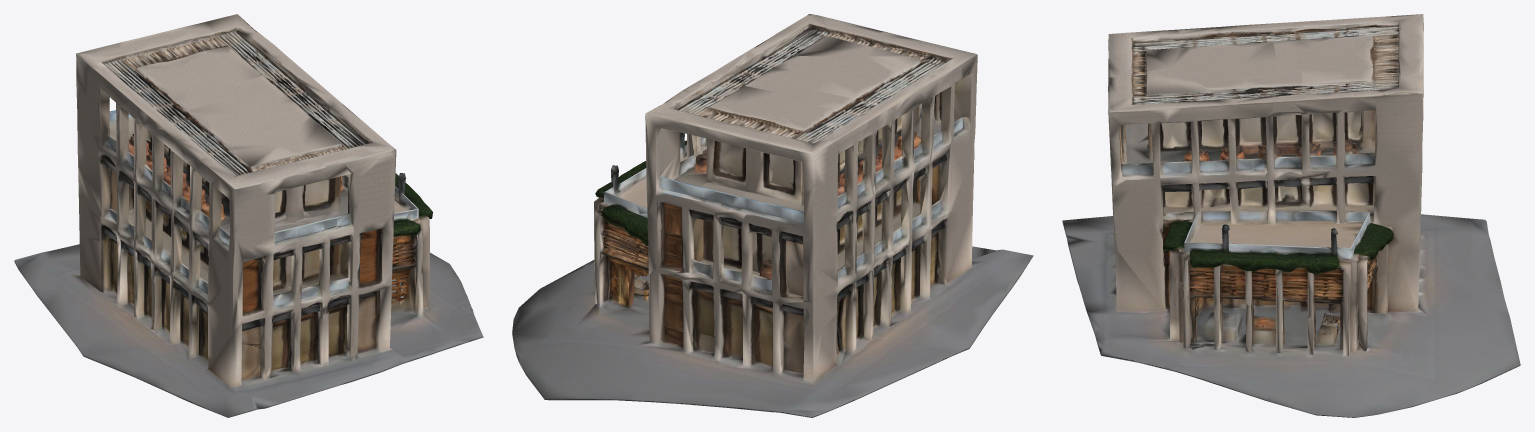
Rendered from shopblk3_lod1.glb.
The picture shows the model from 3 angles, left to right: view 1: azimuth 30°, elevation 25°; view 2: azimuth 150°, elevation 25°; view 3: azimuth 270°, elevation 25°; orthographic projection. The views are drawn at different scales.
Visible parts, largest first — view 1: tripo_node_a7c42c4e-fc94-45e2-8fab-97f05bae58b5; view 2: tripo_node_a7c42c4e-fc94-45e2-8fab-97f05bae58b5; view 3: tripo_node_a7c42c4e-fc94-45e2-8fab-97f05bae58b5.
Boxes of the visible parts, x1,y1,x2,y2 form: tripo_node_a7c42c4e-fc94-45e2-8fab-97f05bae58b5: (14, 14, 483, 417); tripo_node_a7c42c4e-fc94-45e2-8fab-97f05bae58b5: (512, 14, 1033, 417); tripo_node_a7c42c4e-fc94-45e2-8fab-97f05bae58b5: (1062, 14, 1520, 417).
Bounding box in the file's own units: 19.39 × 12 × 19.86.
1 material, 1 textured.
